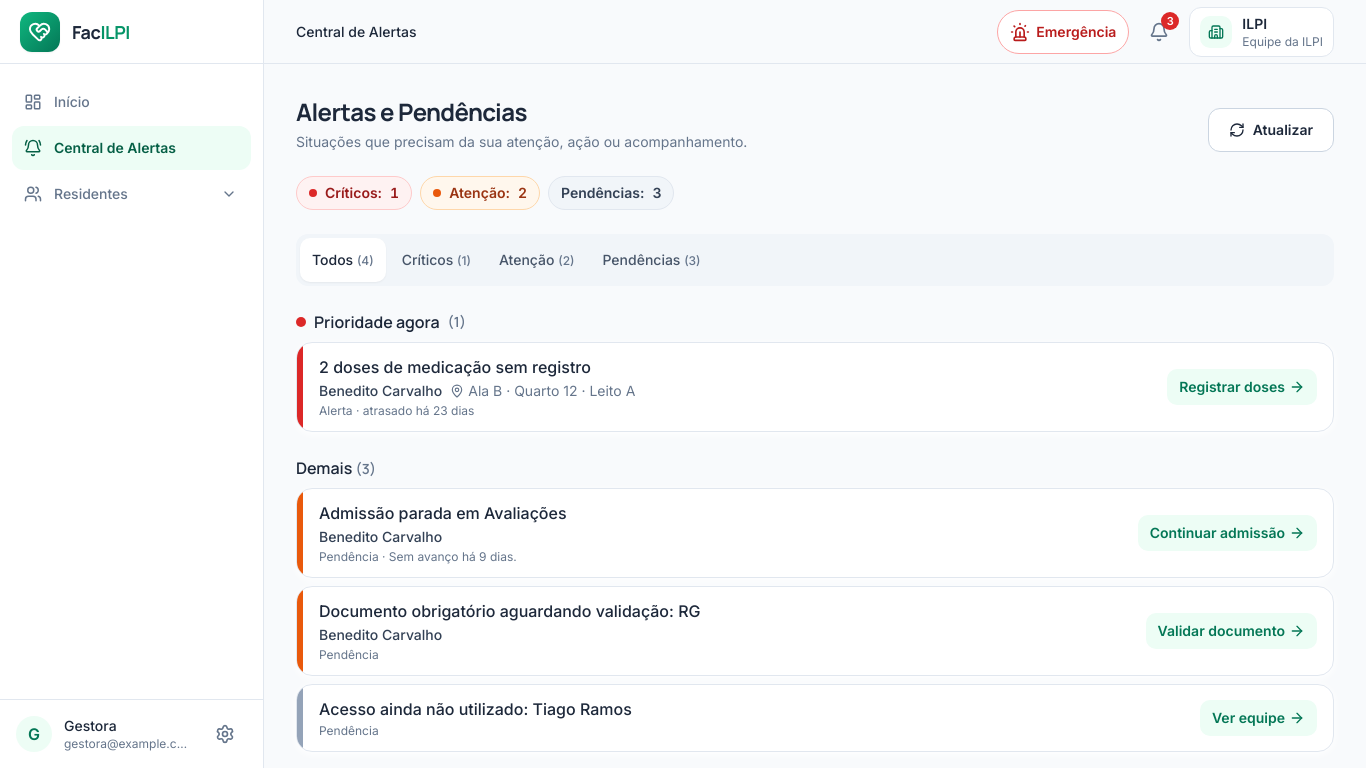
Test: Sino, navegação inferior e Início (#107, #117) › sino e Central concordam: atualizar a Central atualiza o sino
Expected: the element "Prioridade agora (1)" is shown, [296, 310, 1334, 432]
Click the button "Atualizar" at {"x": 1271, "y": 130}, box [1208, 108, 1334, 152]
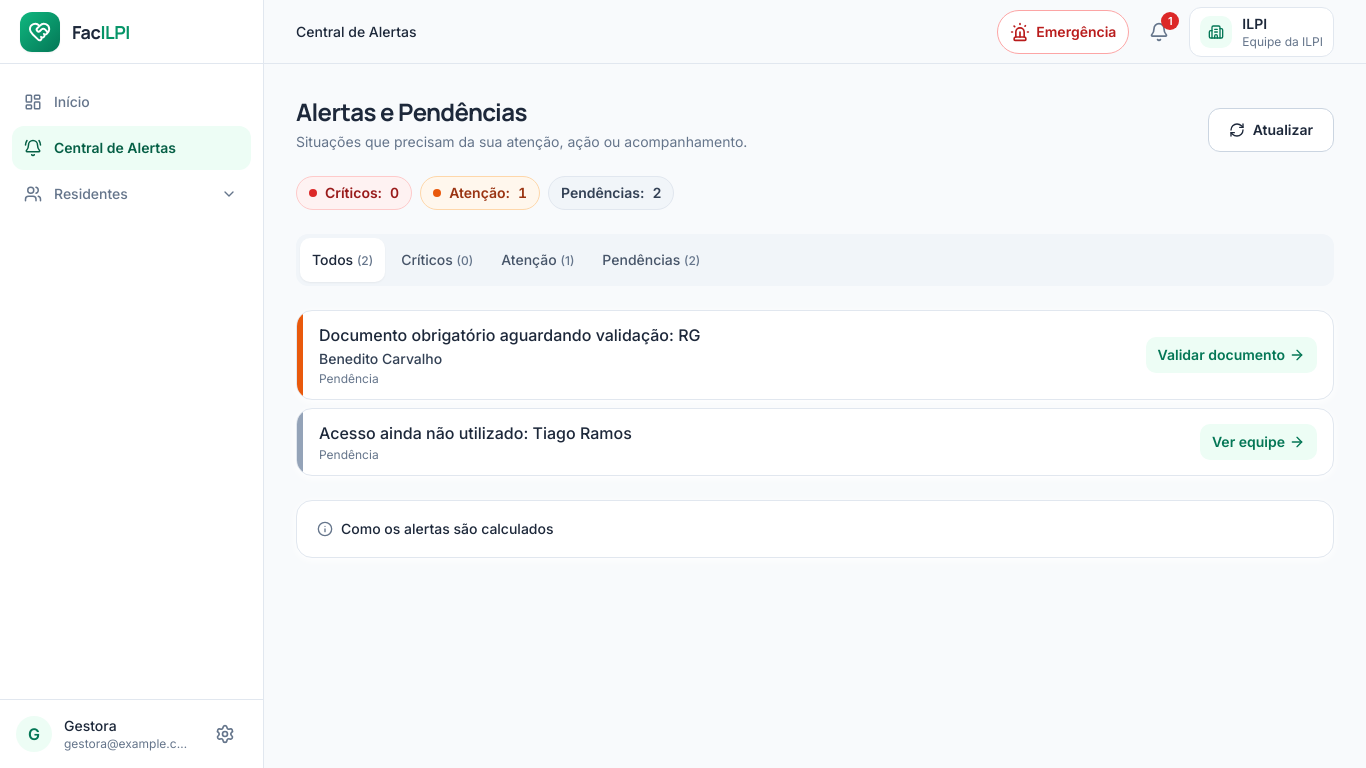
Expected: the heading "Prioridade agora" is gone
Expected: the list named "Resumo" shows "Atenção: 1", [296, 176, 674, 210]
